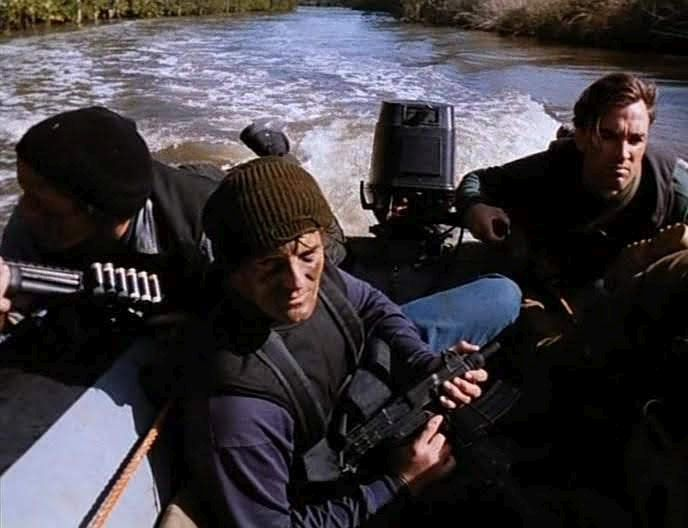gun: (358, 339, 521, 467)
